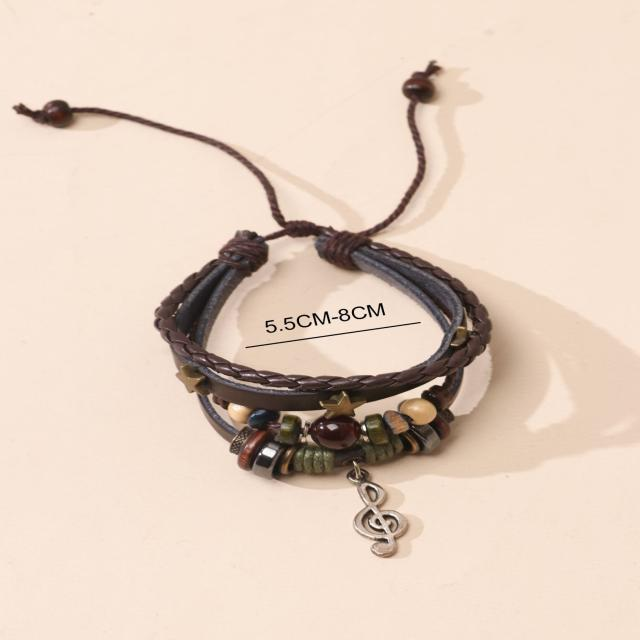bracelet: (0, 48, 593, 577)
